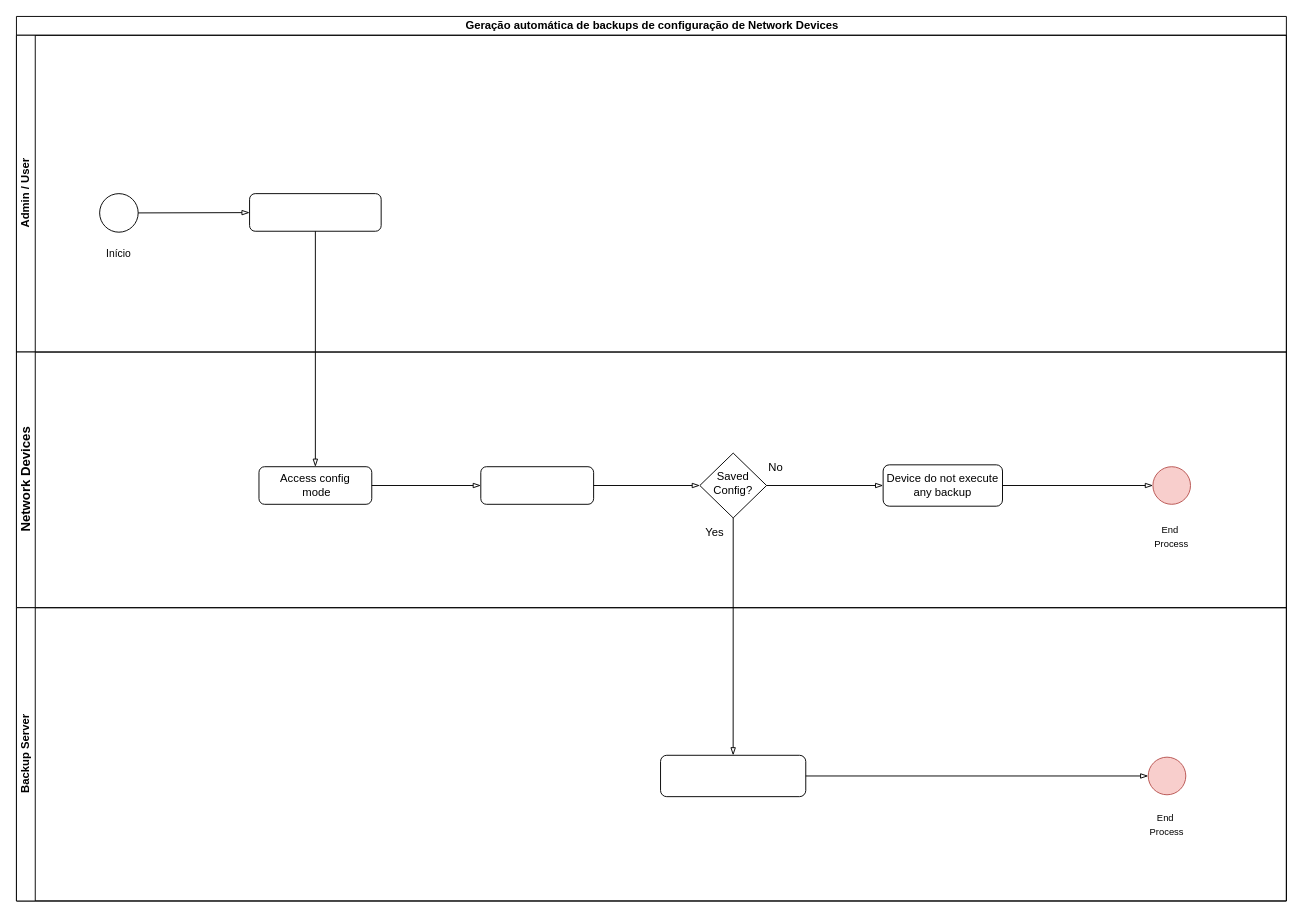
Some shapes in this 1303 by 917 pixel diagram are drawn without their labels. Here are the shapes that lost their labels. From the top down, the centre of each, then its label:
At point 315,212: "ssh to network device".
At point 537,485: "Add new configuration".
At point 733,775: "Store info into automatic backup folder".
